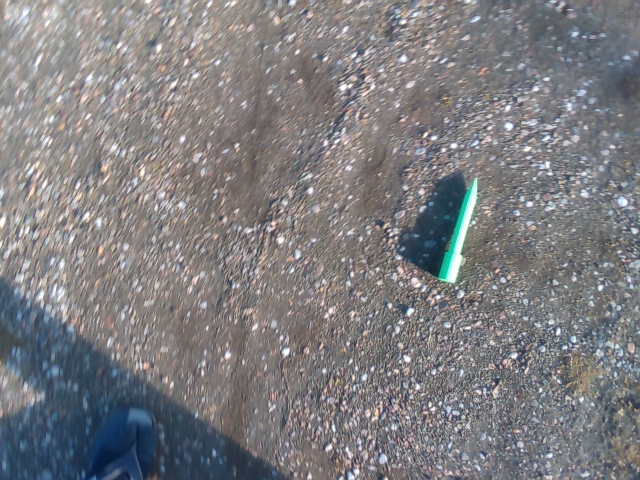Probe: (433, 167, 484, 291)
